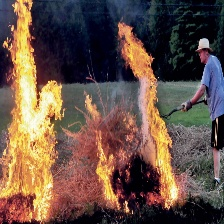fire: (81, 17, 181, 213), (1, 1, 67, 224)
